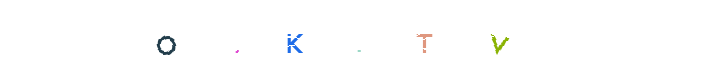9: (236, 0, 316, 80), (315, 0, 395, 80)
K: (253, 0, 333, 80)
O: (126, 0, 206, 80)
T: (349, 0, 429, 80)
V: (459, 0, 539, 80)
